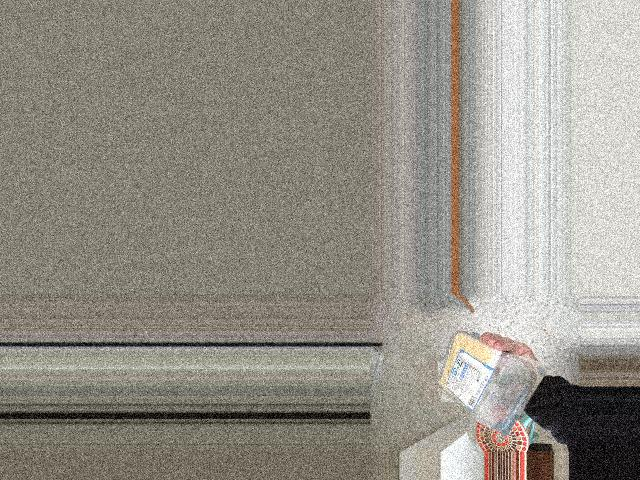cheese: (430, 343, 530, 436)
